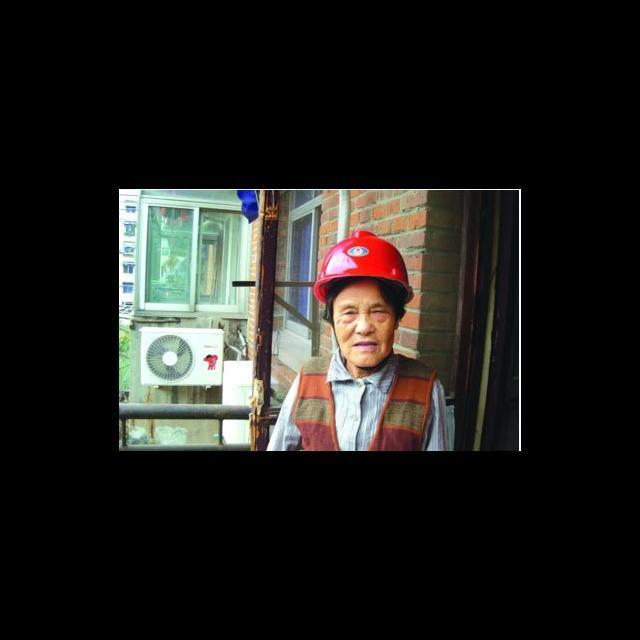helmet: (310, 219, 421, 309)
safety_vest: (268, 341, 458, 452)
